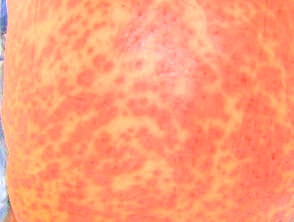SJS-TEN: (11, 0, 294, 222)
